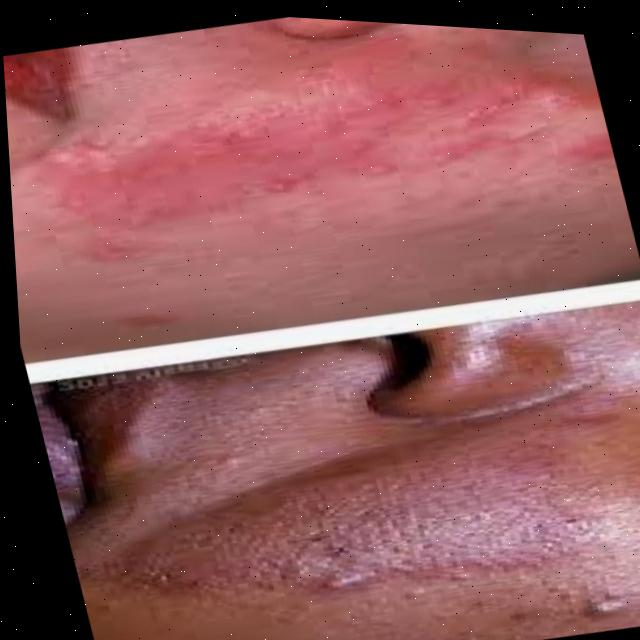Rosacea: (97, 32, 600, 253), (169, 426, 640, 640)
